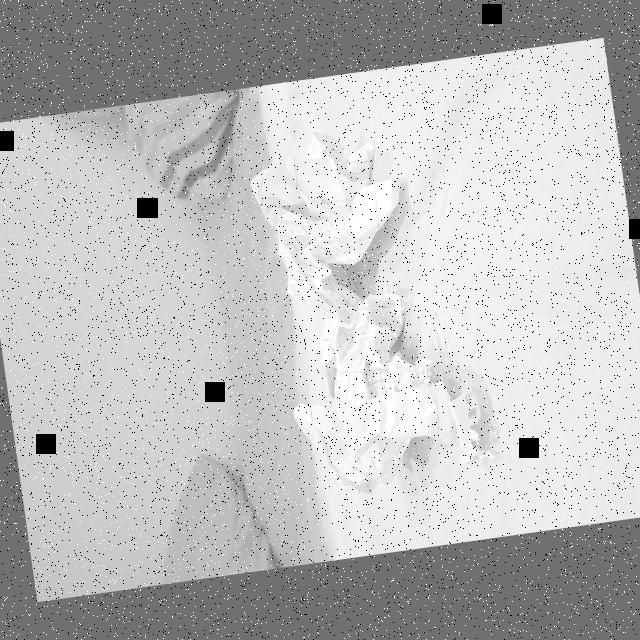scrap_paper: (276, 296, 494, 502), (240, 130, 416, 310)
